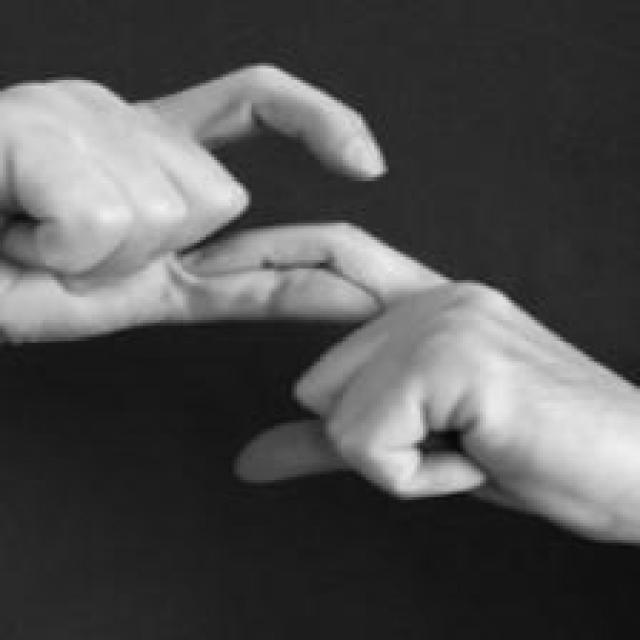S: (0, 58, 640, 546)
